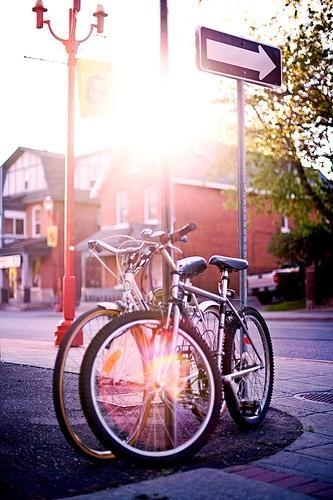bicycle: (76, 223, 276, 462), (53, 228, 228, 462)
truck: (248, 261, 304, 306)
